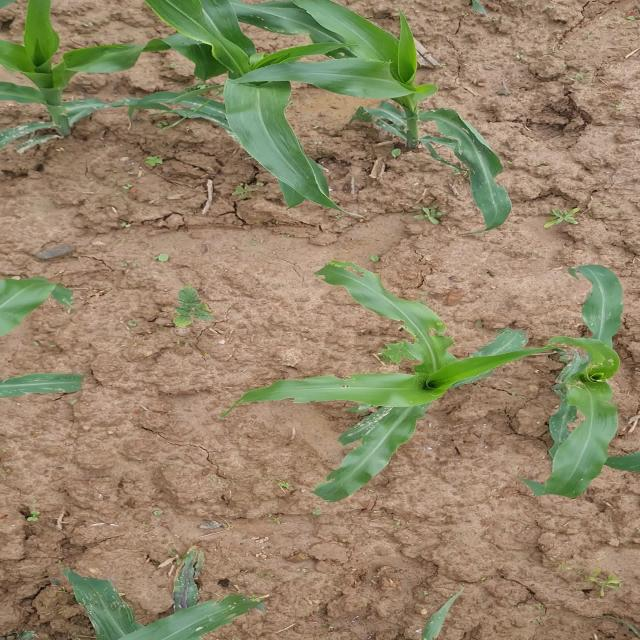maize: (0, 7, 557, 203), (311, 272, 516, 482), (524, 270, 640, 492), (65, 561, 257, 640), (0, 280, 101, 403)
weed: (148, 275, 222, 347)
